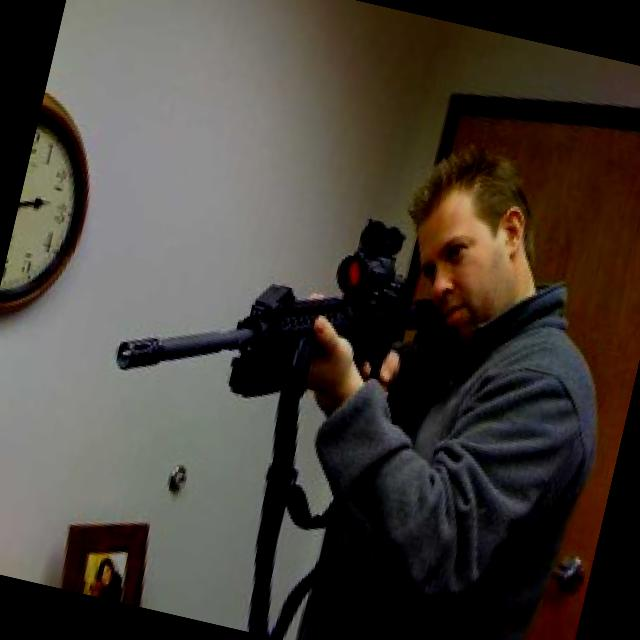long weapon: (100, 220, 433, 425)
